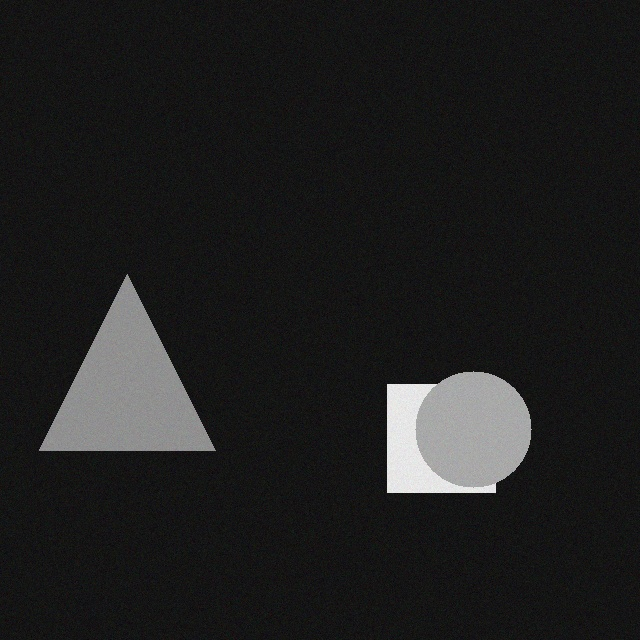circle: (415, 361, 531, 477)
square: (387, 374, 495, 482)
triangle: (39, 264, 215, 440)
